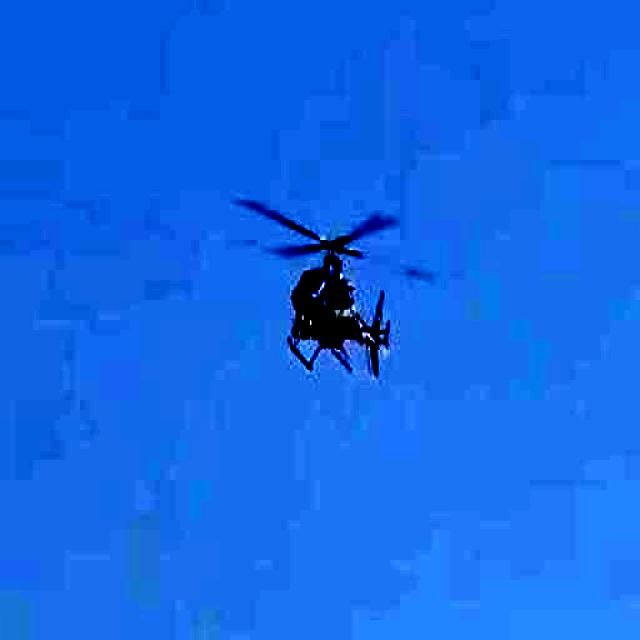drone: (195, 168, 449, 394)
